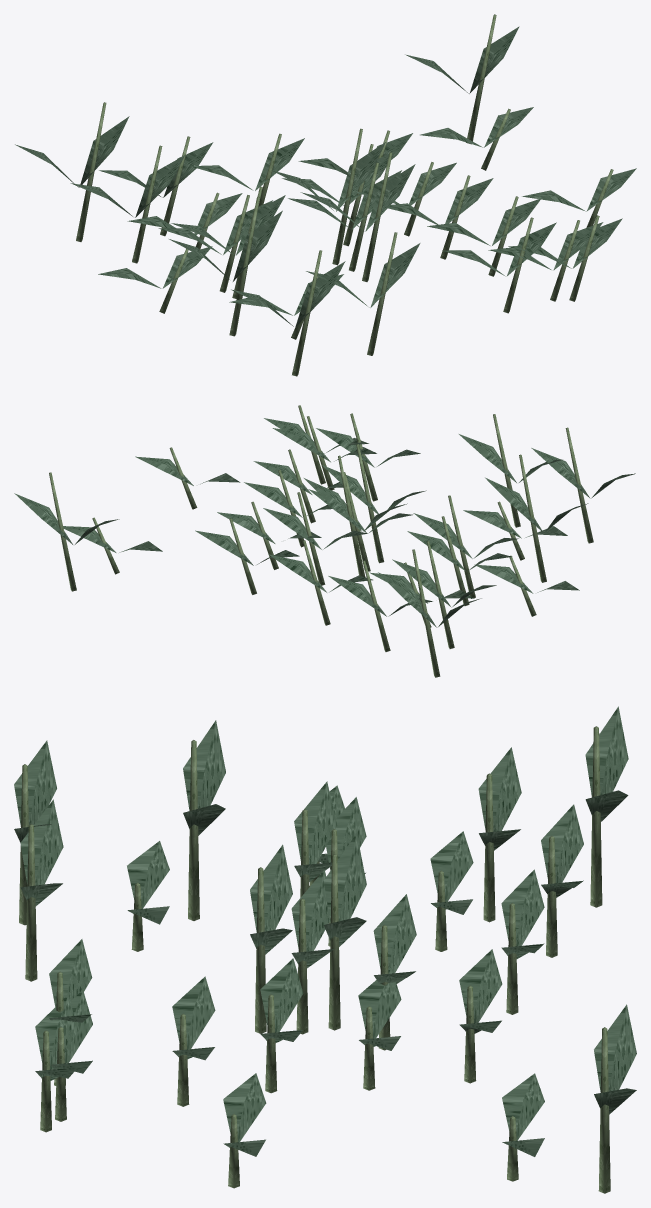
The model's file is grass_v02.glb.
3 views of the same model, one above another, from view 1: azimuth 30°, elevation 25°; view 2: azimuth 150°, elevation 25°; view 3: azimuth 270°, elevation 25° (orthographic). The views are drawn at different scales.
Visible parts, largest first — view 1: grass_v02; view 2: grass_v02; view 3: grass_v02.
Boxes of the visible parts, x1,y1,x2,y2 form: grass_v02: [15, 14, 636, 376]; grass_v02: [14, 405, 635, 677]; grass_v02: [14, 706, 636, 1193].
Bounding box in the file's own units: 4.04 × 0.9813 × 2.82.
Materials: 1 (1 with a texture image).
